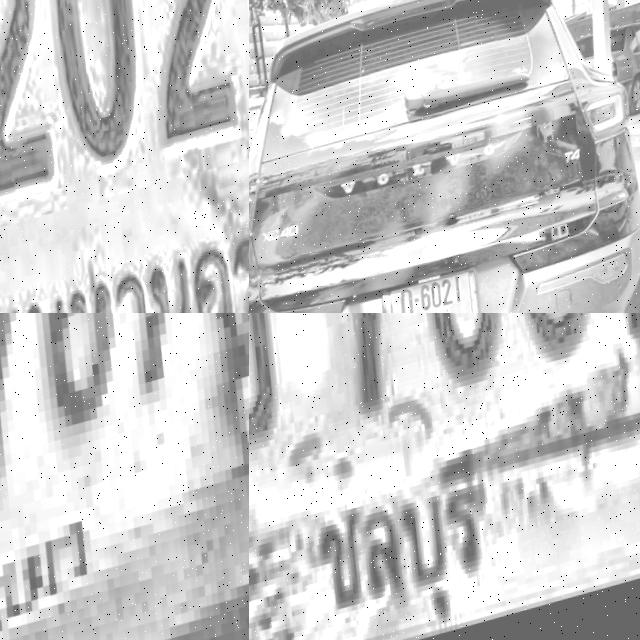license-plate: (249, 313, 640, 640), (0, 313, 249, 640), (0, 0, 249, 313), (382, 263, 497, 313)
